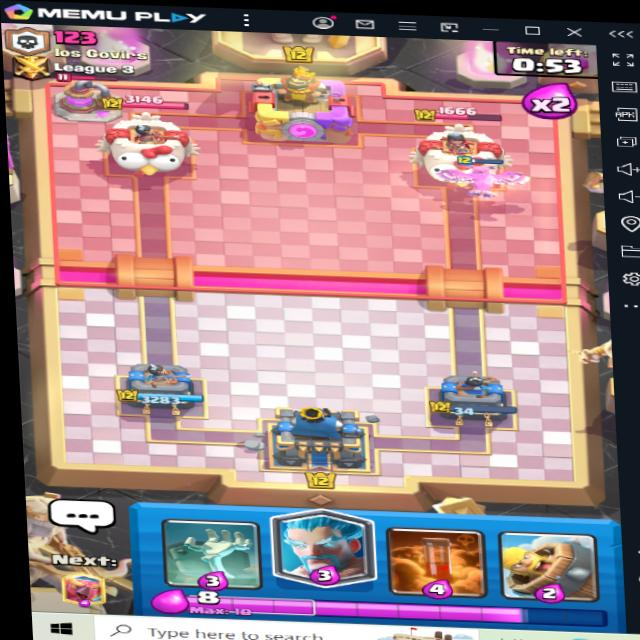elixir-collector: (45, 72, 123, 121)
